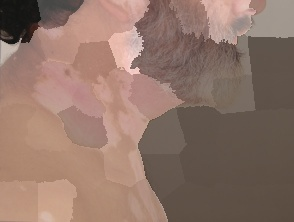vitiligo: (0, 0, 287, 222)
